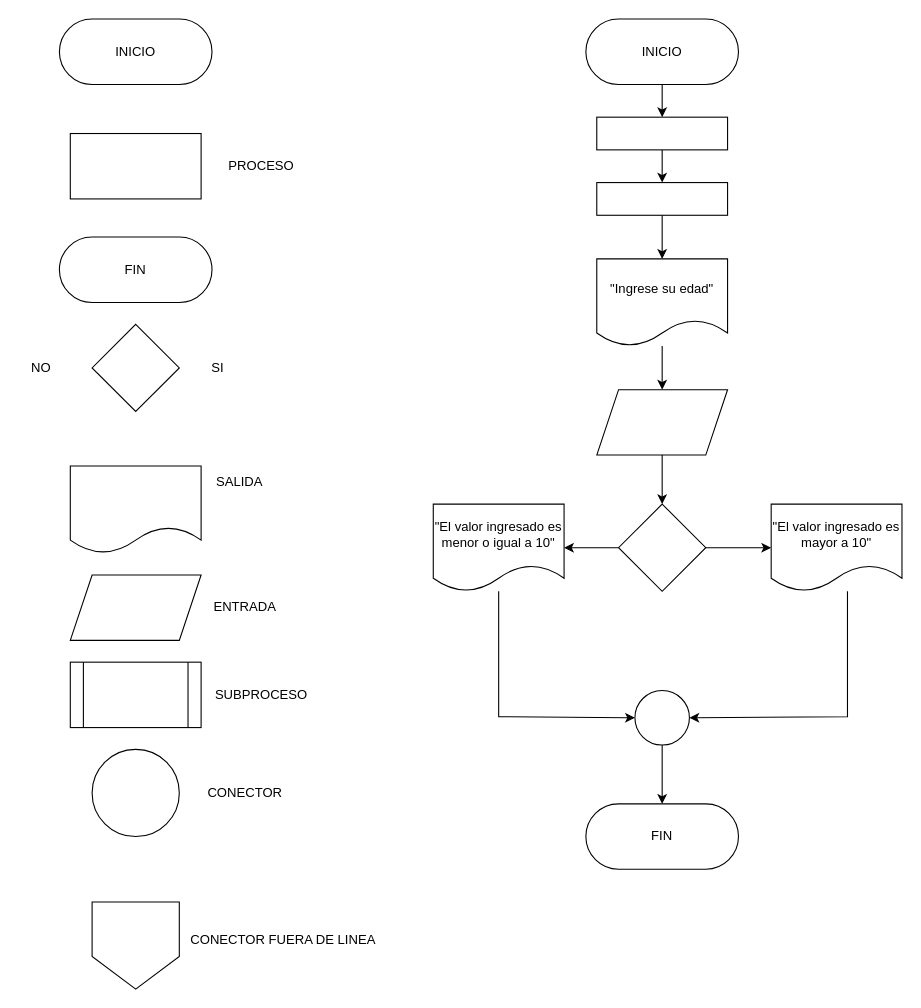
Some shapes in this 921 by 1008 pixel diagram are drawn without their labels. The centre of each missing label's shape, as x and y in pixels:
"edad" goes at point (662, 422).
"edad = 0" goes at point (662, 198).
"edad > 10" goes at point (661, 547).
"int edad" goes at point (662, 133).
